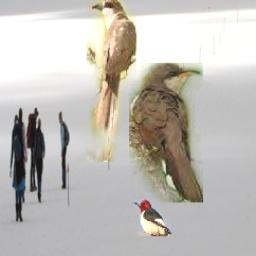Cuckoo: (129, 63, 203, 202), (88, 0, 138, 162)
Woodpecker: (133, 199, 171, 236)
